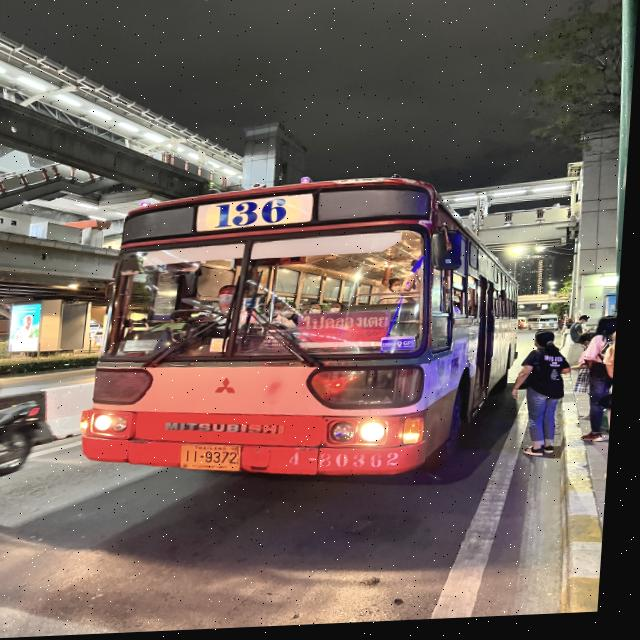BMTA-bus: (82, 176, 528, 495)
Bus-Line-Number: (205, 197, 299, 238)
Destination-Sign-Normal: (294, 307, 397, 348)
